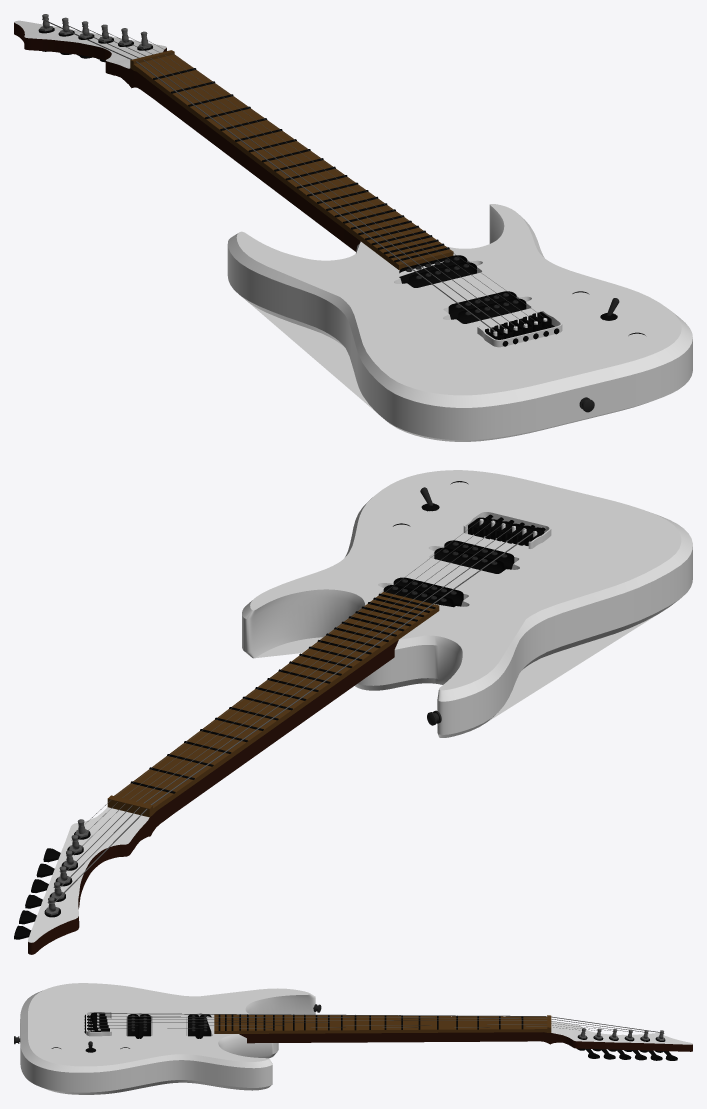
File: electric_guitar.fbx
The picture shows the model from 3 angles, top to bottom: view 1: azimuth 30°, elevation 25°; view 2: azimuth 150°, elevation 25°; view 3: azimuth 270°, elevation 25°; orthographic projection. The views are drawn at different scales.
Visible parts, largest first — view 1: Plane, Plane.002, Vert.005, oval, oval.002, Vert.004; view 2: Plane, Plane.002, Vert.005, oval.001, Vert.004; view 3: Plane, Plane.002, Vert.005, Vert.004, Vert.003, Vert.001, Vert.002, oval, Vert, oval.002, oval.001, oval.003.
Part boxes in pixels (<box>): Plane: <box>227,204,692,441</box>; Plane.002: <box>14,20,453,269</box>; Vert.005: <box>42,18,495,332</box>; oval: <box>458,298,526,323</box>; oval.002: <box>409,262,476,287</box>; Vert.004: <box>62,22,505,329</box>; Plane: <box>242,470,692,737</box>; Plane.002: <box>28,592,439,954</box>; Vert.005: <box>47,531,534,904</box>; oval.001: <box>434,547,504,573</box>; Vert.004: <box>53,529,524,888</box>; Plane: <box>20,983,315,1094</box>; Plane.002: <box>214,1014,692,1051</box>; Vert.005: <box>98,1013,664,1034</box>; Vert.004: <box>98,1016,648,1033</box>; Vert.003: <box>99,1019,632,1033</box>; Vert.001: <box>98,1024,601,1032</box>; Vert.002: <box>99,1022,616,1032</box>; oval: <box>127,1014,139,1038</box>; Vert: <box>99,1026,585,1031</box>; oval.002: <box>188,1014,199,1038</box>; oval.001: <box>139,1014,150,1038</box>; oval.003: <box>199,1014,211,1038</box>.
Size of the model in its own units: 118 by 26.91 by 387.
